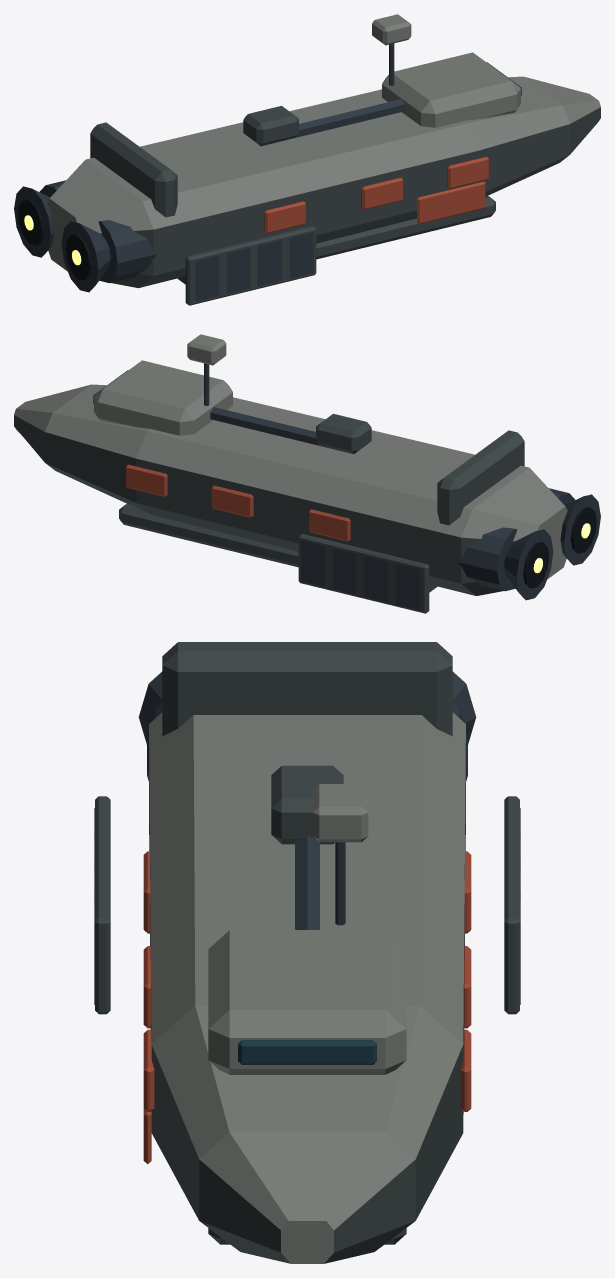
Rendered from quiet-argument.glb.
3 renders of one model, top to bottom at view 1: azimuth 30°, elevation 25°; view 2: azimuth 150°, elevation 25°; view 3: azimuth 270°, elevation 25°, orthographic. The views are drawn at different scales.
Visible parts, largest first — view 1: armored pressure hull, armored command blister, reactor shield, shuttered radiator, ventral armor, engine jacket, unit marking, rail breech, engine bell, dorsal rail mount, engine bell.001, radiator shutter (+9 smaller); view 2: armored pressure hull, armored command blister, reactor shield, ventral armor, shuttered radiator.001, engine jacket.001, rail breech, engine bell.001, dorsal rail mount, engine bell, radiator shutter.007, radiator shutter.004 (+8 smaller); view 3: armored pressure hull, armored command blister, reactor shield, rail breech, shuttered radiator, shuttered radiator.001, sensor slit, sensor head, dorsal rail mount, sensor mast, flush weapon door.004, flush weapon door.005 (+2 smaller).
Boxes of the visible parts, box(x1,y1,x2,y2) form: armored pressure hull: box(47, 76, 600, 288); armored command blister: box(382, 52, 520, 127); reactor shield: box(90, 122, 177, 217); shuttered radiator: box(185, 226, 316, 305); ventral armor: box(177, 196, 495, 284); engine jacket: box(98, 220, 156, 283); unit marking: box(417, 181, 485, 224); rail breech: box(243, 105, 298, 145); engine bell: box(61, 221, 110, 292); dorsal rail mount: box(259, 99, 404, 146); engine bell.001: box(14, 186, 54, 257); radiator shutter: box(195, 255, 219, 301); armored pressure hull: box(14, 384, 567, 595); armored command blister: box(94, 360, 232, 435); reactor shield: box(437, 430, 524, 525); ventral armor: box(119, 504, 437, 592); shuttered radiator.001: box(298, 534, 429, 613); engine jacket.001: box(458, 527, 517, 591); rail breech: box(316, 413, 371, 453); engine bell.001: box(504, 529, 553, 600); dorsal rail mount: box(210, 407, 355, 454); engine bell: box(560, 494, 600, 565); radiator shutter.007: box(301, 540, 325, 586); radiator shutter.004: box(395, 563, 419, 609); armored pressure hull: box(149, 712, 465, 1263); armored command blister: box(208, 930, 406, 1074); reactor shield: box(162, 642, 452, 736); rail breech: box(271, 765, 343, 844); shuttered radiator: box(95, 796, 110, 1014); shuttered radiator.001: box(504, 796, 519, 1014); sensor slit: box(238, 1040, 376, 1064); sensor head: box(312, 784, 368, 842); dorsal rail mount: box(295, 835, 319, 929); sensor mast: box(335, 842, 345, 925); flush weapon door.004: box(143, 1029, 154, 1111); flush weapon door.005: box(460, 1029, 471, 1111).
Size of the model in its own units: 9.49 by 3.19 by 3.23.
